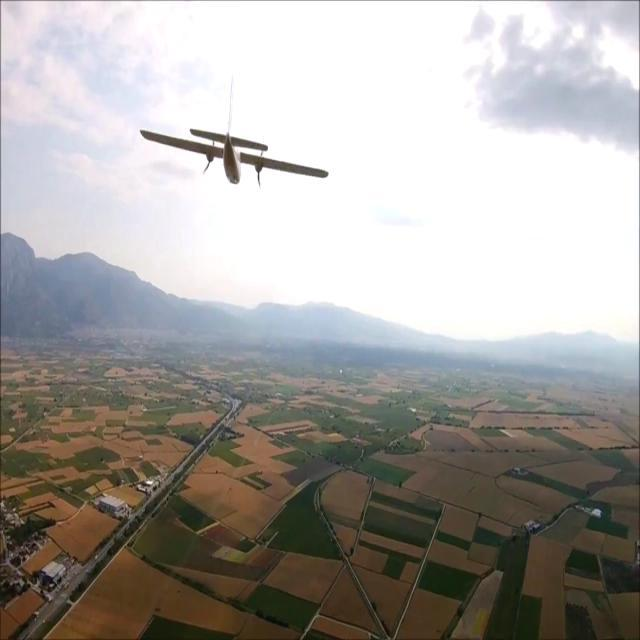iha: (141, 128, 329, 159)
